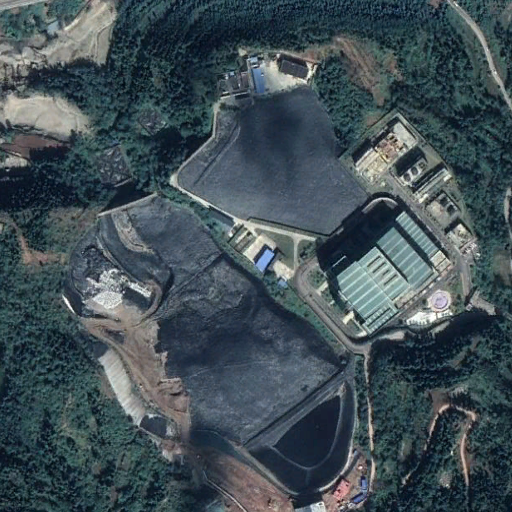lf: (62, 192, 343, 442), (173, 81, 371, 241)
